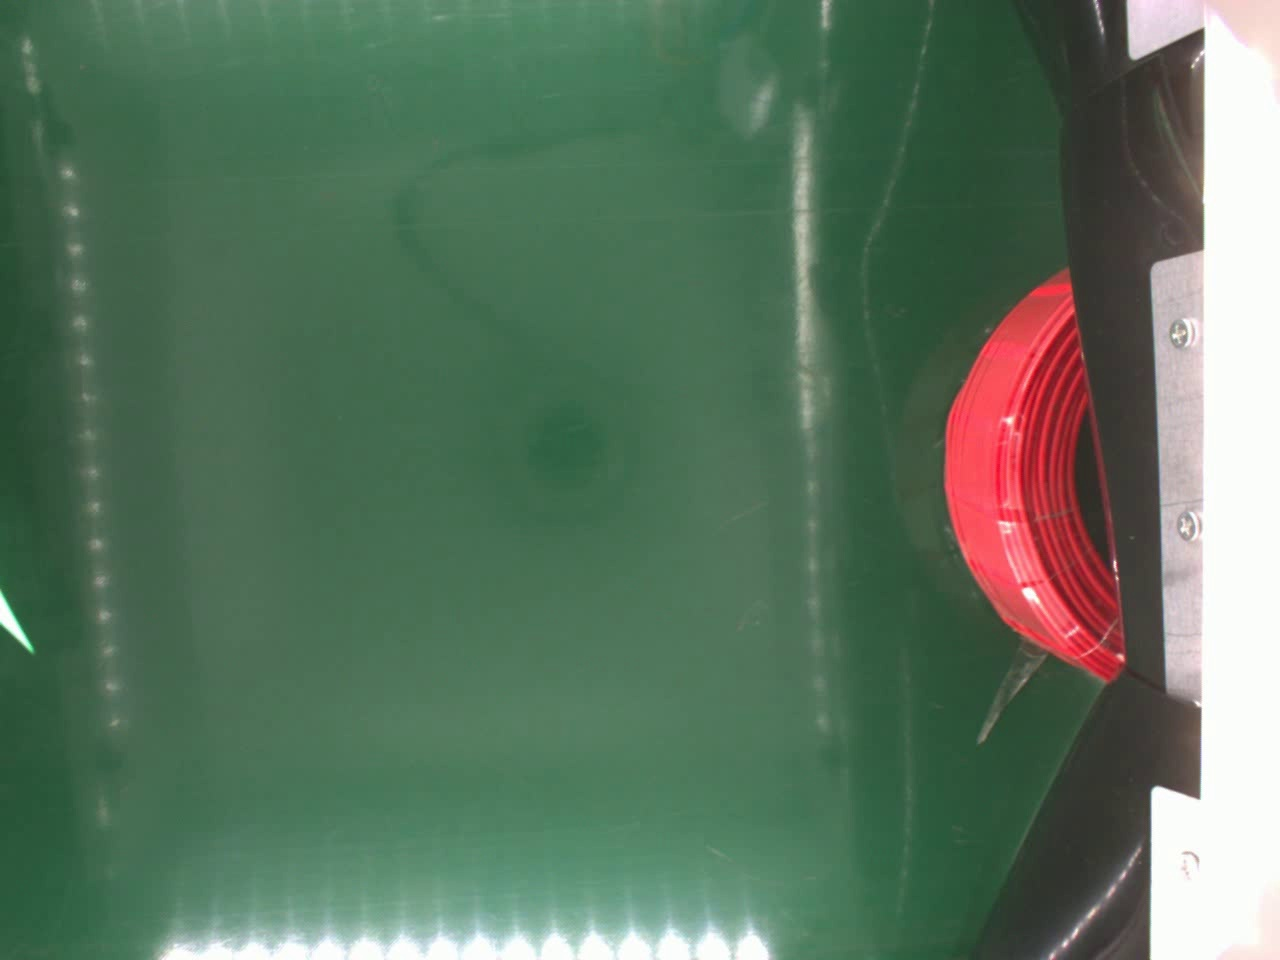red: (940, 264, 1122, 683)
